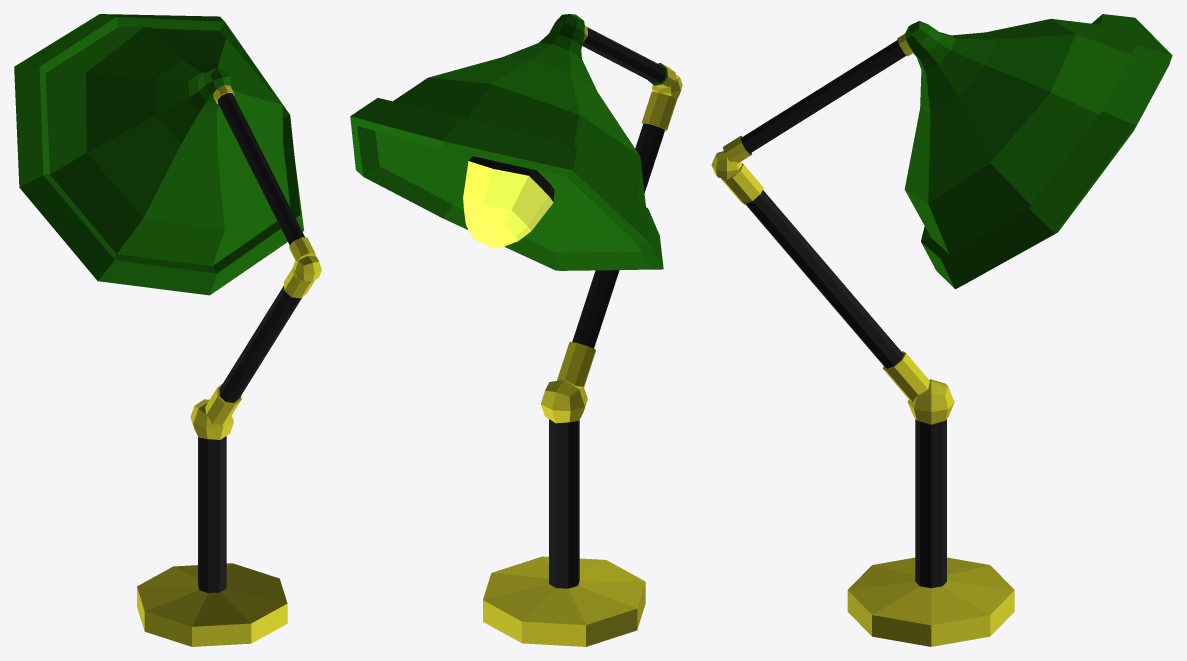
File: Desk Lamp 3.fbx
3 views of the same model, side by side, from view 1: azimuth 30°, elevation 25°; view 2: azimuth 150°, elevation 25°; view 3: azimuth 270°, elevation 25° (orthographic). The views are drawn at different scales.
Parts seen in each view (by area): view 1: Node 0; view 2: Node 0, Node 1; view 3: Node 0.
Part boxes in pixels (left/top/right/bottom): Node 0: left=14, top=14, right=321, bottom=646; Node 0: left=350, top=14, right=682, bottom=646; Node 1: left=463, top=161, right=553, bottom=248; Node 0: left=711, top=14, right=1172, bottom=646.
Size of the model in its own units: 0.735 by 1.04 by 0.534.
